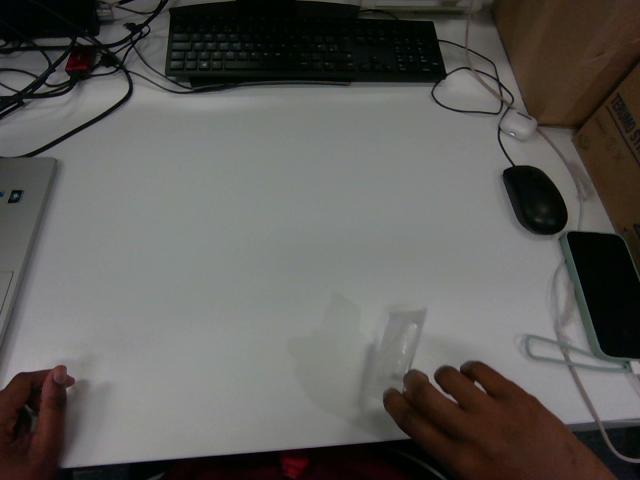gauze: (373, 309, 425, 392)
